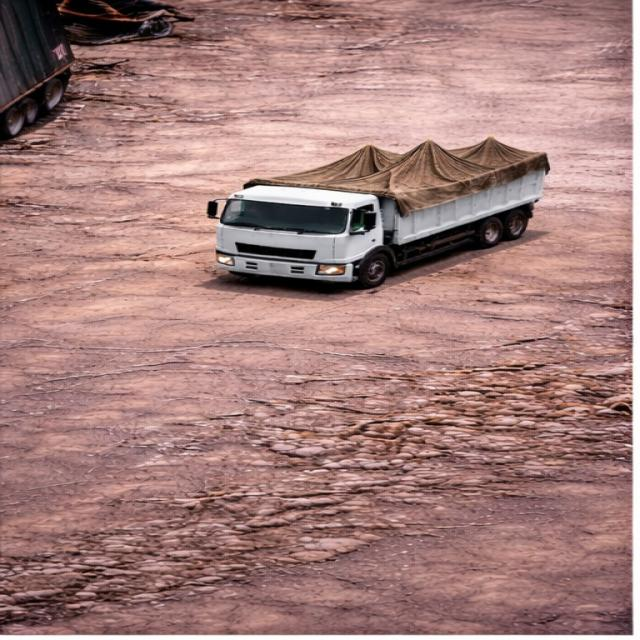trailer: (252, 139, 559, 196)
truck: (196, 130, 604, 290)
